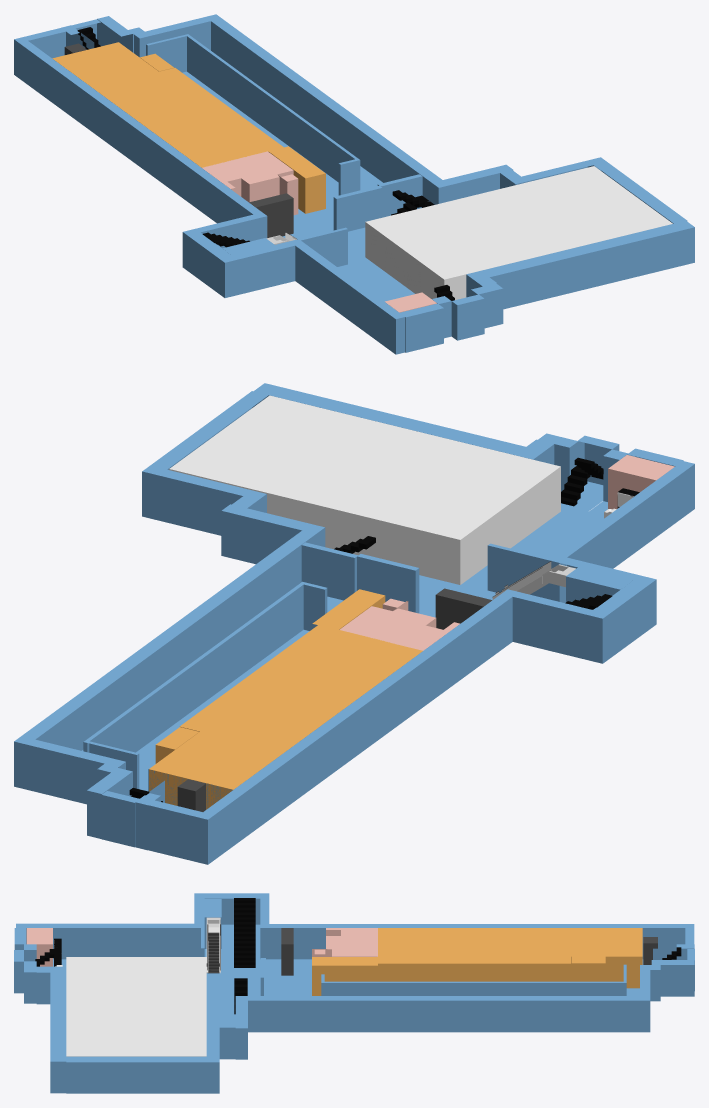
The picture shows the model from 3 angles, top to bottom: view 1: azimuth 30°, elevation 25°; view 2: azimuth 150°, elevation 25°; view 3: azimuth 270°, elevation 25°; orthographic projection. The views are drawn at different scales.
Visible parts, largest first — view 1: object, 10301, シダックス_1, シダックス_2, モスバーガー, 男子トイレ_4_1, 女子トイレ_4_1, エレベーター_4_3, 女子トイレ_4_2; view 2: object, 10301, シダックス_1, シダックス_2, 女子トイレ_4_2, 女子トイレ_4_1, 男子トイレ_4_1, モスバーガー, エスカレーター_4_1, 階段_4_1, エレベーター_4_3, エレベーター_4_1; view 3: object, 10301, シダックス_1, シダックス_2, モスバーガー, 階段_4_3, ソフトクリーム屋, エスカレーター_4_1, 女子トイレ_4_1, 男子トイレ_4_1, 女子トイレ_4_2, エレベーター_4_3 (+1 smaller).
Boxes of the visible parts, x1,y1,x2,y2 form: object: [14, 14, 694, 354]; 10301: [365, 166, 672, 299]; シダックス_1: [102, 68, 283, 167]; シダックス_2: [52, 42, 168, 94]; モスバーガー: [269, 146, 325, 213]; 男子トイレ_4_1: [211, 162, 279, 202]; 女子トイレ_4_1: [202, 151, 293, 194]; エレベーター_4_3: [268, 193, 293, 236]; 女子トイレ_4_2: [385, 292, 436, 312]; object: [14, 383, 694, 864]; 10301: [169, 395, 560, 584]; シダックス_1: [179, 625, 422, 743]; シダックス_2: [149, 722, 296, 809]; 女子トイレ_4_2: [608, 455, 674, 509]; 女子トイレ_4_1: [339, 601, 434, 650]; 男子トイレ_4_1: [373, 608, 459, 641]; モスバーガー: [312, 589, 385, 629]; エスカレーター_4_1: [492, 561, 575, 599]; 階段_4_1: [561, 457, 603, 506]; エレベーター_4_3: [435, 588, 468, 629]; エレベーター_4_1: [177, 779, 205, 811]; object: [14, 893, 694, 1093]; 10301: [66, 957, 206, 1056]; シダックス_1: [377, 928, 570, 981]; シダックス_2: [554, 928, 642, 988]; モスバーガー: [312, 957, 377, 995]; 階段_4_3: [234, 898, 255, 967]; ソフトクリーム屋: [571, 956, 605, 981]; エスカレーター_4_1: [206, 917, 220, 973]; 女子トイレ_4_1: [312, 928, 377, 956]; 男子トイレ_4_1: [326, 928, 361, 948]; 女子トイレ_4_2: [26, 928, 52, 966]; エレベーター_4_3: [281, 936, 293, 975].
Bounding box in the file's own units: 1.89 × 0.2249 × 3.21.
Materials: 40 (6 with a texture image).
